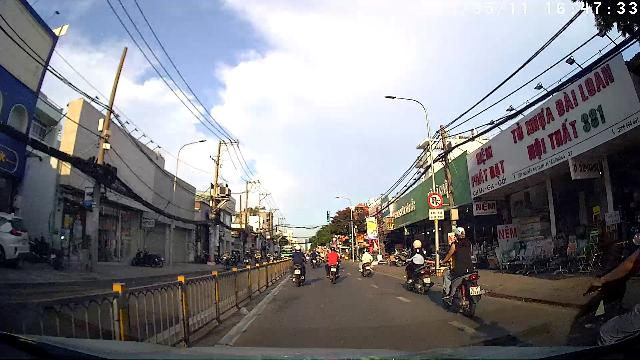124b-cam-oto-quay-dau-xe: (427, 193, 443, 209)
